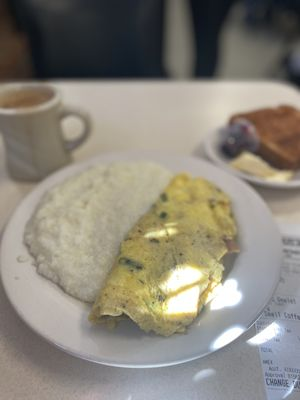pizza: (0, 83, 90, 183)
soup: (27, 158, 241, 338)
